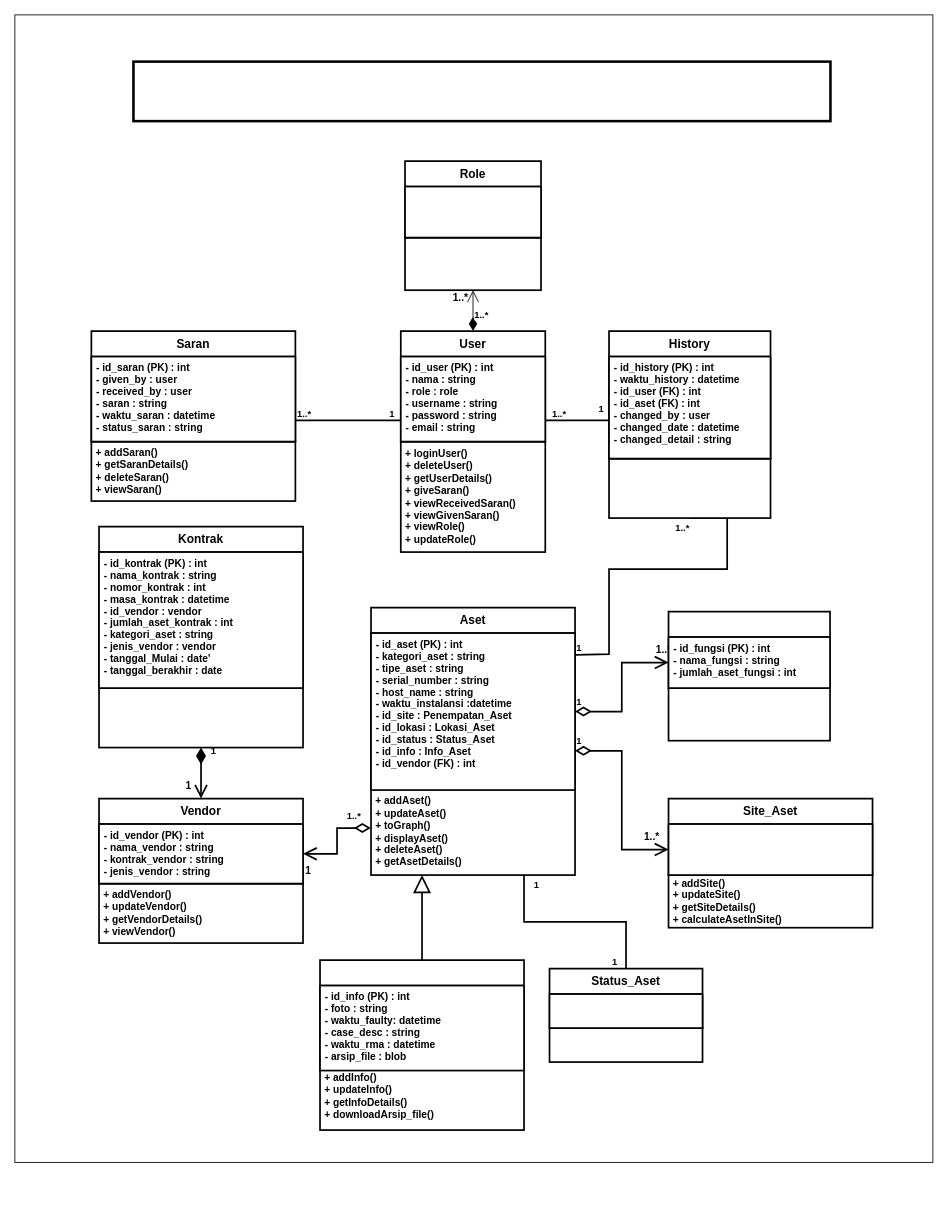
This 948x1226 diagram has some shape labels left out. Each missing label, with the box of its shape:
+ addFungsi() + updateFungsi() + getFungsiDetails() + calculateAsetInFungsi(): (667, 687, 830, 741)
+ addHistory() + getHistoryDetails() + deleteHistory() + viewHistory(): (608, 457, 771, 518)
+ addKontrak() + viewKontrak() + updateKontrak() + getKontrakDetails(): (98, 687, 303, 748)
+ addRole() + updateRole() + getRoleDetails(): (404, 236, 541, 291)
+ updateStatus() + getStatusDetails(): (548, 1027, 703, 1062)
- id_role (PK) : int - role : string - nama_user : user: (404, 185, 541, 238)
- id_site (PK) : int + site : string + jumlah_aset_site : int: (667, 823, 873, 876)
- id_status (PK) : int + status : string: (548, 993, 703, 1028)
CLASS DIAGRAM DATABASE ASET_VENDOR: (132, 60, 831, 122)
Info_Aset: (319, 959, 524, 1062)
Lokasi_Aset: (667, 610, 830, 688)
